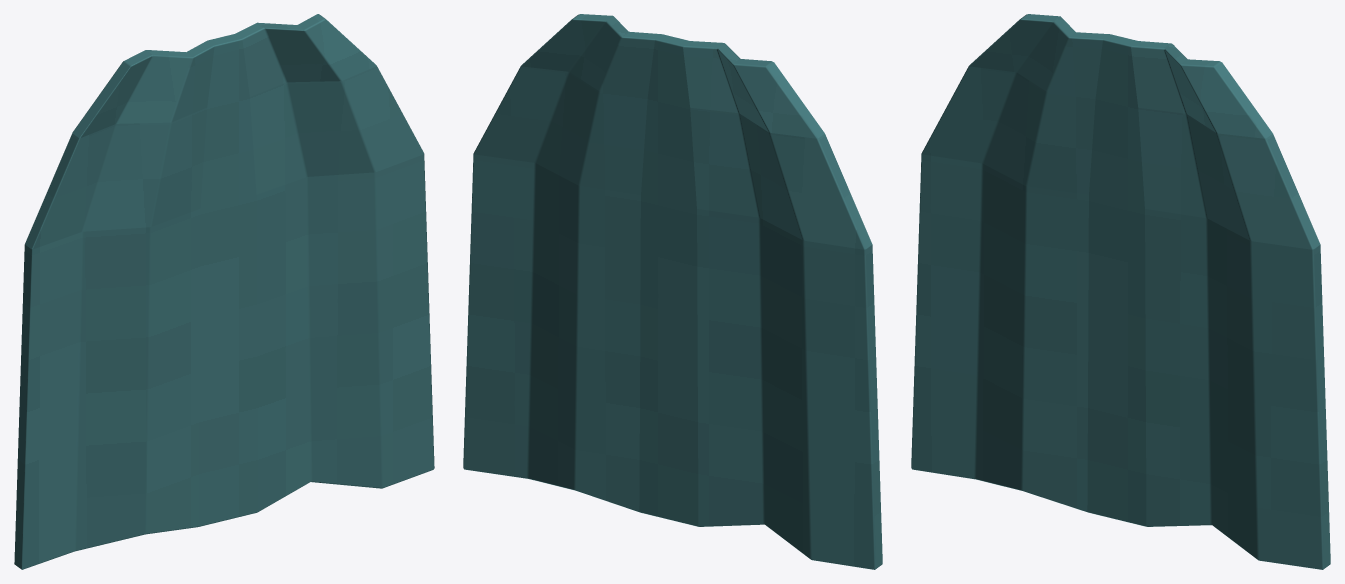
Rendered from Hanging-cloth.glb.
3 views of the same model, side by side, from view 1: azimuth 30°, elevation 25°; view 2: azimuth 150°, elevation 25°; view 3: azimuth 330°, elevation 25° (orthographic).
Parts seen in each view (by area): view 1: Hanging-cloth; view 2: Hanging-cloth; view 3: Hanging-cloth.
Part boxes in pixels (left/top/right/bottom): Hanging-cloth: left=14, top=14, right=434, bottom=569; Hanging-cloth: left=463, top=14, right=882, bottom=569; Hanging-cloth: left=911, top=14, right=1330, bottom=569.
Bounding box in the file's own units: 0.3259 × 0.36 × 0.0276.
Materials: 1 (1 with a texture image).
